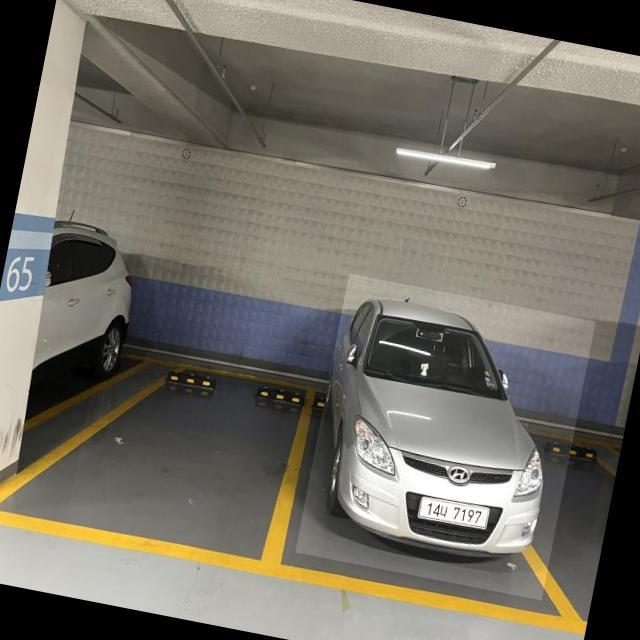empty: (65, 336, 324, 570)
occupied: (295, 274, 596, 600)
